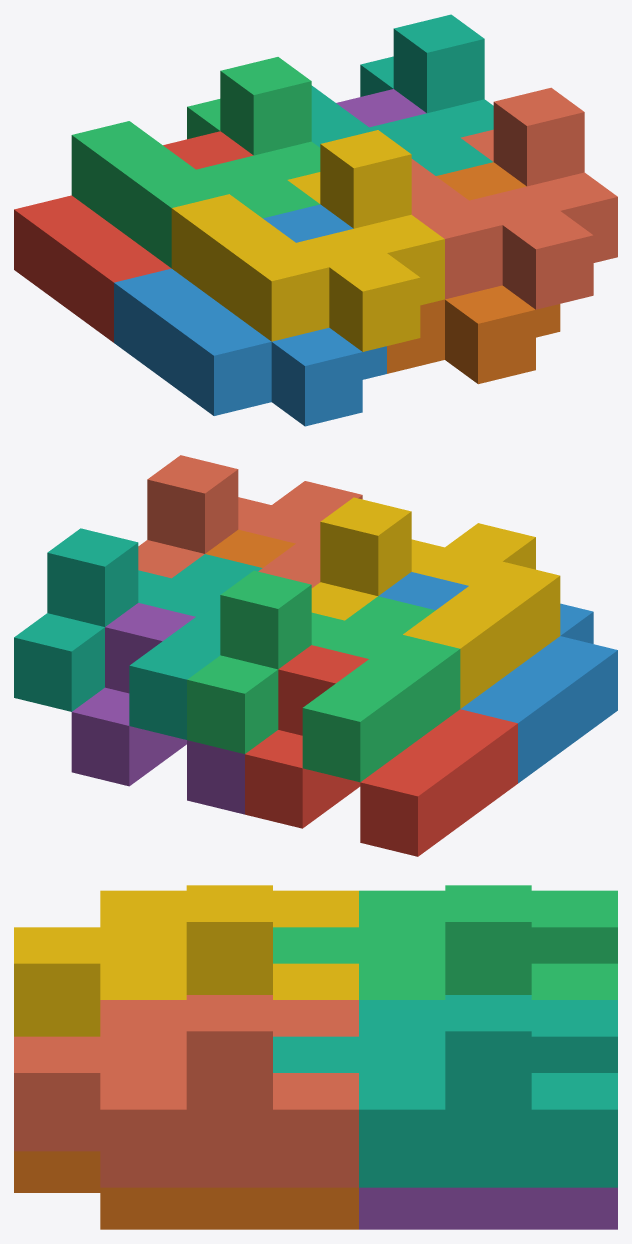
Rendered from tiling.obj.
The picture shows the model from 3 angles, top to bottom: view 1: azimuth 30°, elevation 25°; view 2: azimuth 150°, elevation 25°; view 3: azimuth 270°, elevation 25°; orthographic projection. The views are drawn at different scales.
Parts seen in each view (by area): view 1: copy_1_domain_4, copy_1_domain_8, copy_1_domain_3, copy_1_domain_2, copy_1_domain_7, copy_1_domain_1, copy_1_domain_6, copy_1_domain_5; view 2: copy_1_domain_3, copy_1_domain_7, copy_1_domain_1, copy_1_domain_4, copy_1_domain_8, copy_1_domain_2, copy_1_domain_5, copy_1_domain_6; view 3: copy_1_domain_8, copy_1_domain_7, copy_1_domain_4, copy_1_domain_3, copy_1_domain_6, copy_1_domain_5.
Part boxes in pixels (<box>): copy_1_domain_4: <box>171,130,444,351</box>; copy_1_domain_8: <box>411,87,617,309</box>; copy_1_domain_3: <box>71,57,320,268</box>; copy_1_domain_2: <box>114,204,386,426</box>; copy_1_domain_7: <box>311,14,493,175</box>; copy_1_domain_1: <box>14,131,253,342</box>; copy_1_domain_6: <box>387,162,560,384</box>; copy_1_domain_5: <box>336,89,426,127</box>; copy_1_domain_3: <box>187,570,460,782</box>; copy_1_domain_7: <box>14,528,262,739</box>; copy_1_domain_1: <box>245,645,517,856</box>; copy_1_domain_4: <box>311,497,560,708</box>; copy_1_domain_8: <box>138,455,362,587</box>; copy_1_domain_2: <box>378,572,617,783</box>; copy_1_domain_5: <box>71,603,244,814</box>; copy_1_domain_6: <box>205,529,295,567</box>; copy_1_domain_8: <box>14,995,358,1187</box>; copy_1_domain_7: <box>273,995,617,1187</box>; copy_1_domain_4: <box>14,885,358,1036</box>; copy_1_domain_3: <box>273,885,617,999</box>; copy_1_domain_6: <box>14,1151,358,1229</box>; copy_1_domain_5: <box>359,1187,617,1229</box>.
Bounding box in the file's own units: 7 × 3 × 7.
